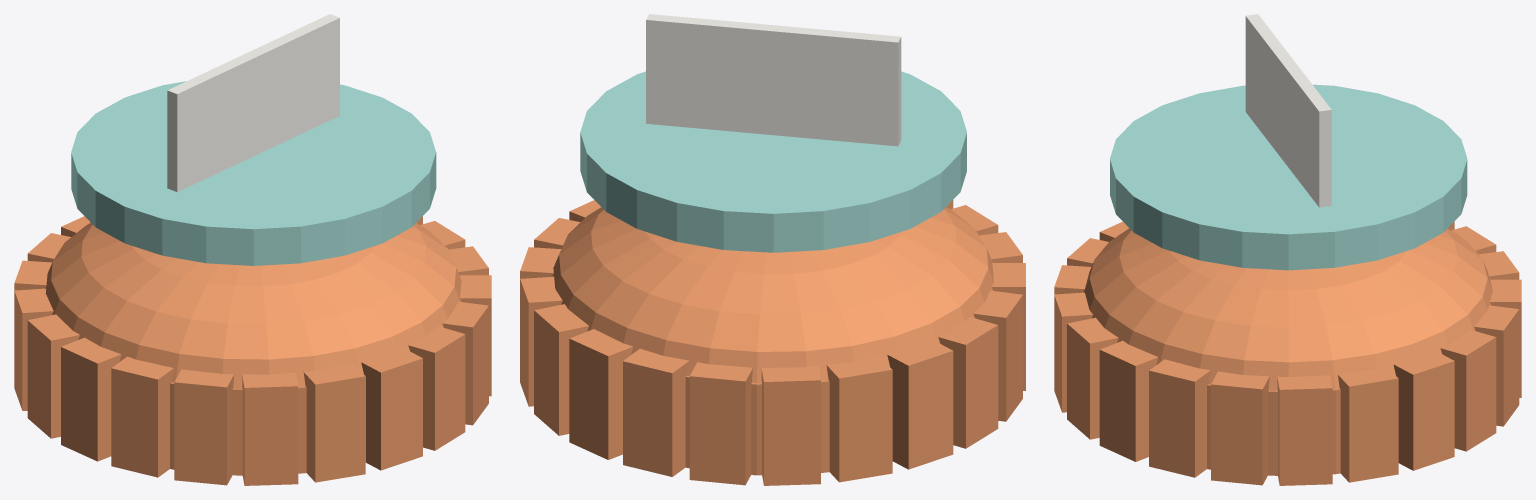
File: item_68_bottle_cap.glb
The picture shows the model from 3 angles, left to right: view 1: azimuth 30°, elevation 25°; view 2: azimuth 150°, elevation 25°; view 3: azimuth 270°, elevation 25°; orthographic projection. The views are drawn at different scales.
Parts seen in each view (by area): view 1: I68_Dome, I68_Liner, I68_Logo, I68_Flute11, I68_Flute14, I68_Flute13, I68_Flute10, I68_Flute12, I68_Flute15, I68_Flute9, I68_Flute16, I68_Flute8 (+7 smaller); view 2: I68_Dome, I68_Liner, I68_Logo, I68_Flute18, I68_Flute0, I68_Flute20, I68_Flute17, I68_Flute19, I68_Flute1, I68_Flute16, I68_Flute2, I68_Flute15 (+7 smaller); view 3: I68_Liner, I68_Dome, I68_Logo, I68_Flute4, I68_Flute7, I68_Flute3, I68_Flute6, I68_Flute5, I68_Flute8, I68_Flute2, I68_Flute9, I68_Flute1 (+7 smaller).
Boxes of the visible parts, x1,y1,x2,y2 form: I68_Dome: (45,222,461,388); I68_Liner: (71,81,436,265); I68_Logo: (167,14,339,191); I68_Flute11: (303,364,365,482); I68_Flute14: (111,356,173,477); I68_Flute13: (174,369,234,485); I68_Flute10: (361,348,422,470); I68_Flute12: (242,372,298,485); I68_Flute15: (61,337,121,461); I68_Flute9: (408,326,465,450); I68_Flute16: (27,314,79,438); I68_Flute8: (442,301,488,425); I68_Dome: (552,207,993,383); I68_Liner: (580,71,966,252); I68_Logo: (646,14,901,146); I68_Flute18: (826,356,892,482); I68_Flute0: (623,348,689,476); I68_Flute20: (689,362,752,485); I68_Flute17: (887,339,953,469); I68_Flute19: (761,366,820,485); I68_Flute1: (569,329,633,459); I68_Flute16: (938,317,998,448); I68_Flute2: (534,304,588,435); I68_Flute15: (973,290,1022,421); I68_Liner: (1110,84,1467,270); I68_Dome: (1083,228,1492,390); I68_Logo: (1245,14,1331,207); I68_Flute4: (1338,366,1398,482); I68_Flute7: (1149,359,1210,477); I68_Flute3: (1393,350,1454,470); I68_Flute6: (1211,371,1269,485); I68_Flute5: (1277,375,1332,485); I68_Flute8: (1099,340,1158,461); I68_Flute2: (1440,330,1496,451); I68_Flute9: (1067,317,1118,439); I68_Flute1: (1474,305,1519,426).
Bounding box in the file's own units: 0.0354 × 0.027 × 0.0353.
